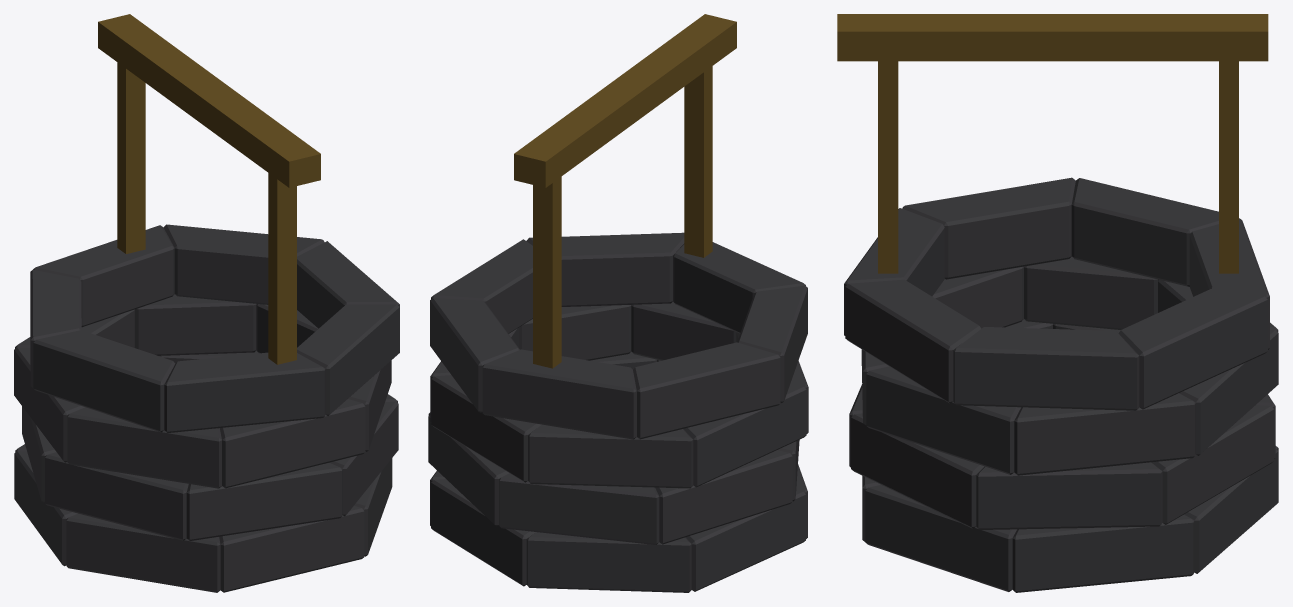
Rendered from Kolodez.fbx.
3 views of the same model, side by side, from view 1: azimuth 30°, elevation 25°; view 2: azimuth 150°, elevation 25°; view 3: azimuth 270°, elevation 25° (orthographic). The views are drawn at different scales.
Visible parts, largest first — view 1: Cube.003; view 2: Cube.003; view 3: Cube.003.
Part boxes in pixels (left/top/right/bottom): Cube.003: left=14, top=14, right=399, bottom=592; Cube.003: left=428, top=14, right=808, bottom=592; Cube.003: left=837, top=14, right=1278, bottom=592.
Size of the model in its own units: 1365 by 1678 by 1394.
